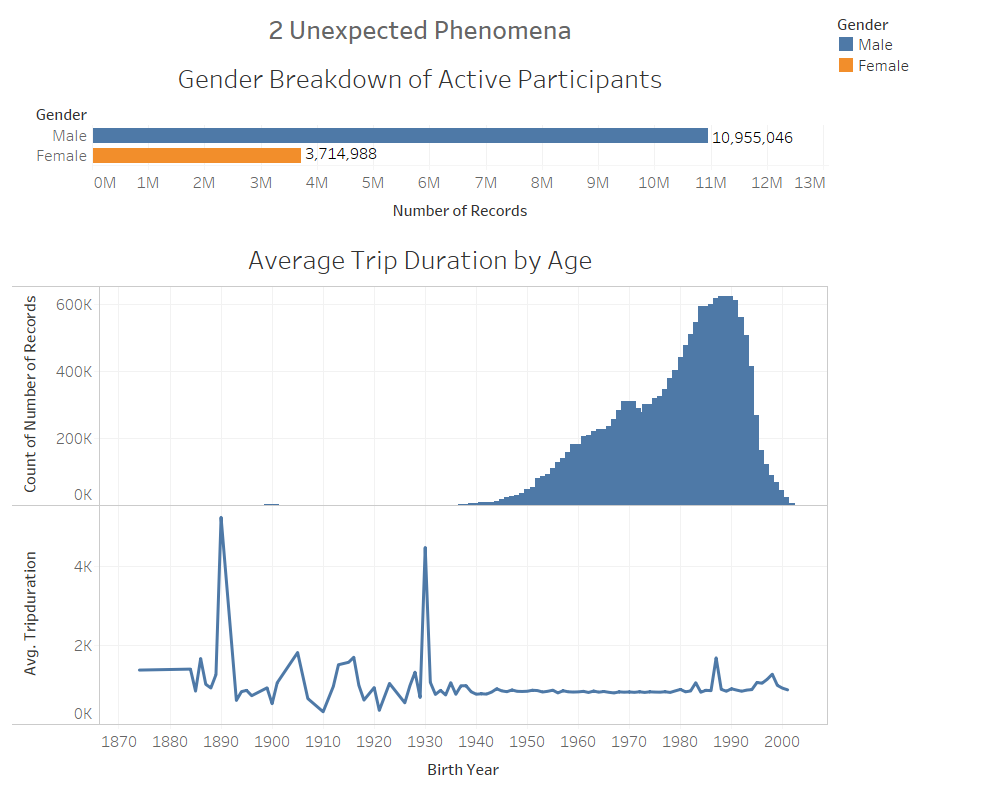

The dashboard page shown, as its layout file describes it:
{"tool":"tableau","page":{"name":"Dashboard 1","canvas":[1000,800],"ordinal":0},"visuals":[{"type":"text","box":[8,8,824,43]},{"type":"legend","title":"Sheet 9","param":"[federated.0nol3ks1dgi1271b4hfef1el0j15].[none:gender:ok]","box":[832,8,160,72]},{"type":"worksheet","title":"Sheet 9","mark":"Automatic","rows":["gender"],"cols":["Number of Records"],"box":[8,51,824,181]},{"type":"worksheet","title":"Sheet 10","mark":"Bar","rows":["Number of Records","tripduration"],"cols":["birth year"],"box":[8,232,824,560]}]}

Visuals, with their boxes in screenshot pixels (x1, y1, x2, y2), scaled from the page's 1000x800 canvas onto the 1000x800 screenshot:
text: 8/8/832/51
"Sheet 9" legend: 832/8/992/80
"Sheet 9" worksheet: 8/51/832/232
"Sheet 10" worksheet (Bar marks): 8/232/832/792
